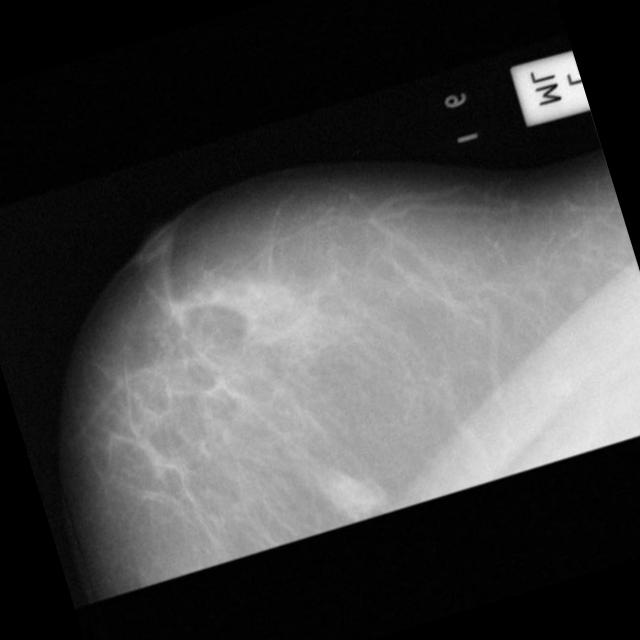MISC: (310, 450, 397, 538)
